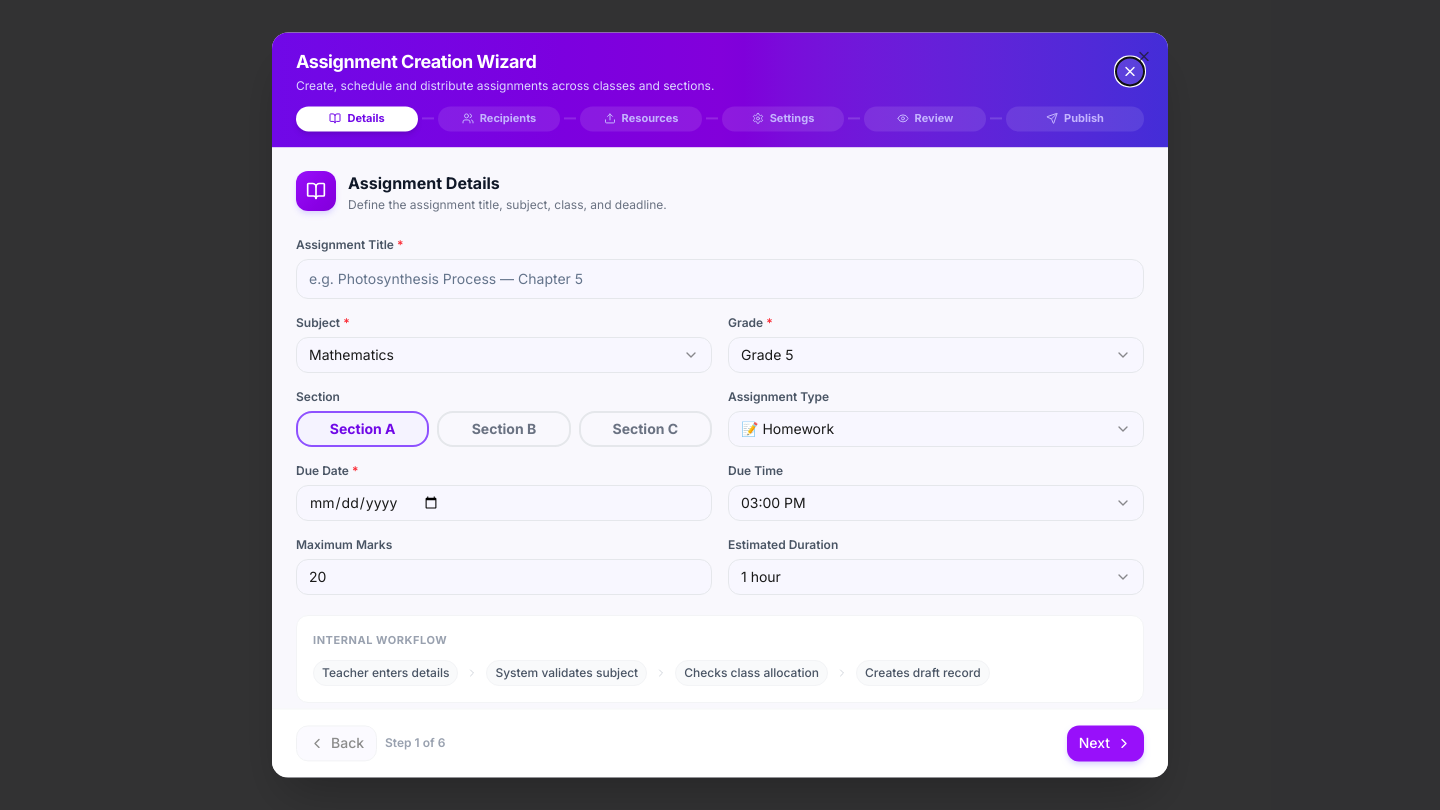
it: AssignmentWizard › advances to Recipients once title and due date are filled
The width and height of the screenshot is (1440, 810).
Type "My Assignment" into the field with placeholder "e.g. Photosynthesis Process — Chapter 5" at (720, 279), box x1=296 y1=259 x2=1144 y2=299
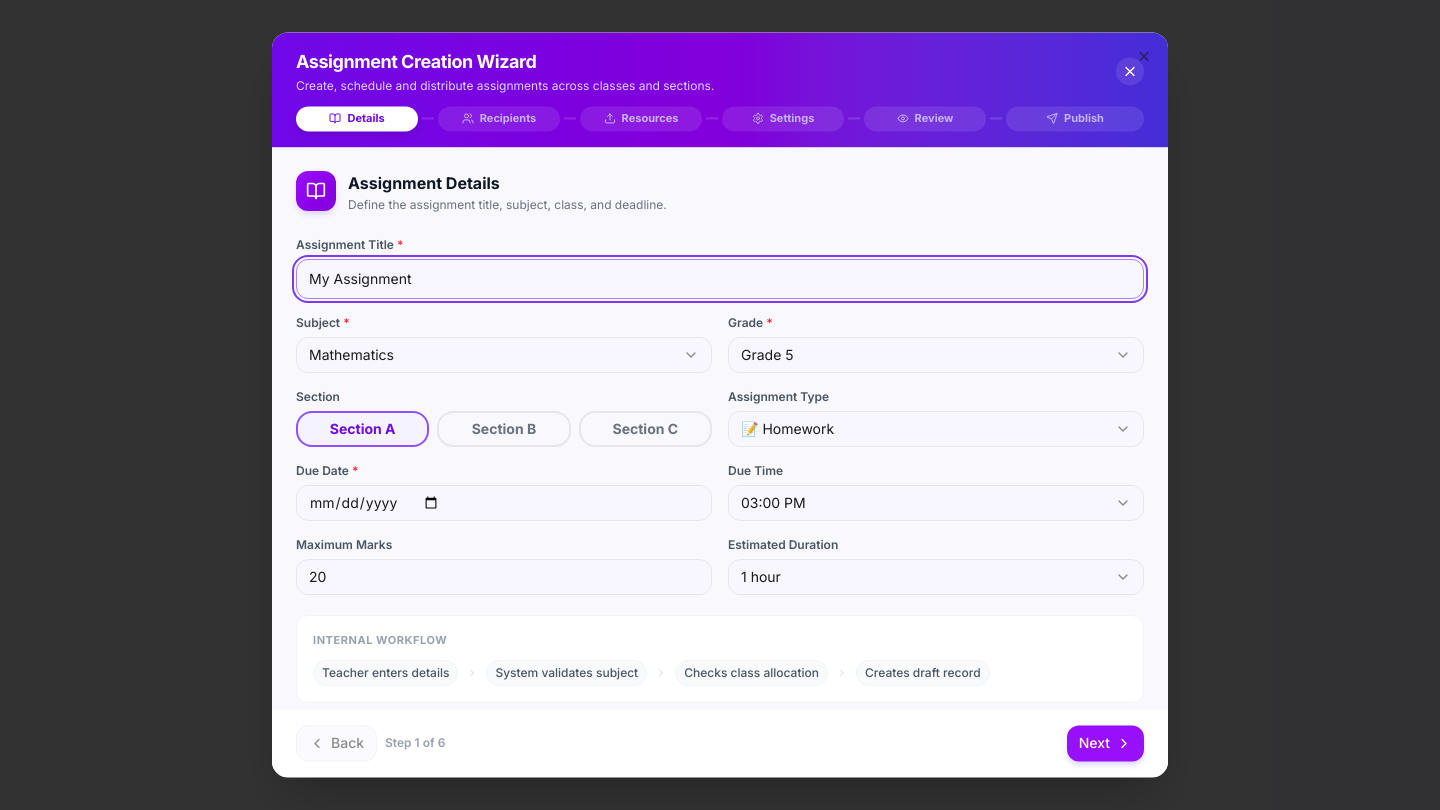
Type "2026-08-01" into the date field at (504, 503), box x1=296 y1=485 x2=712 y2=521
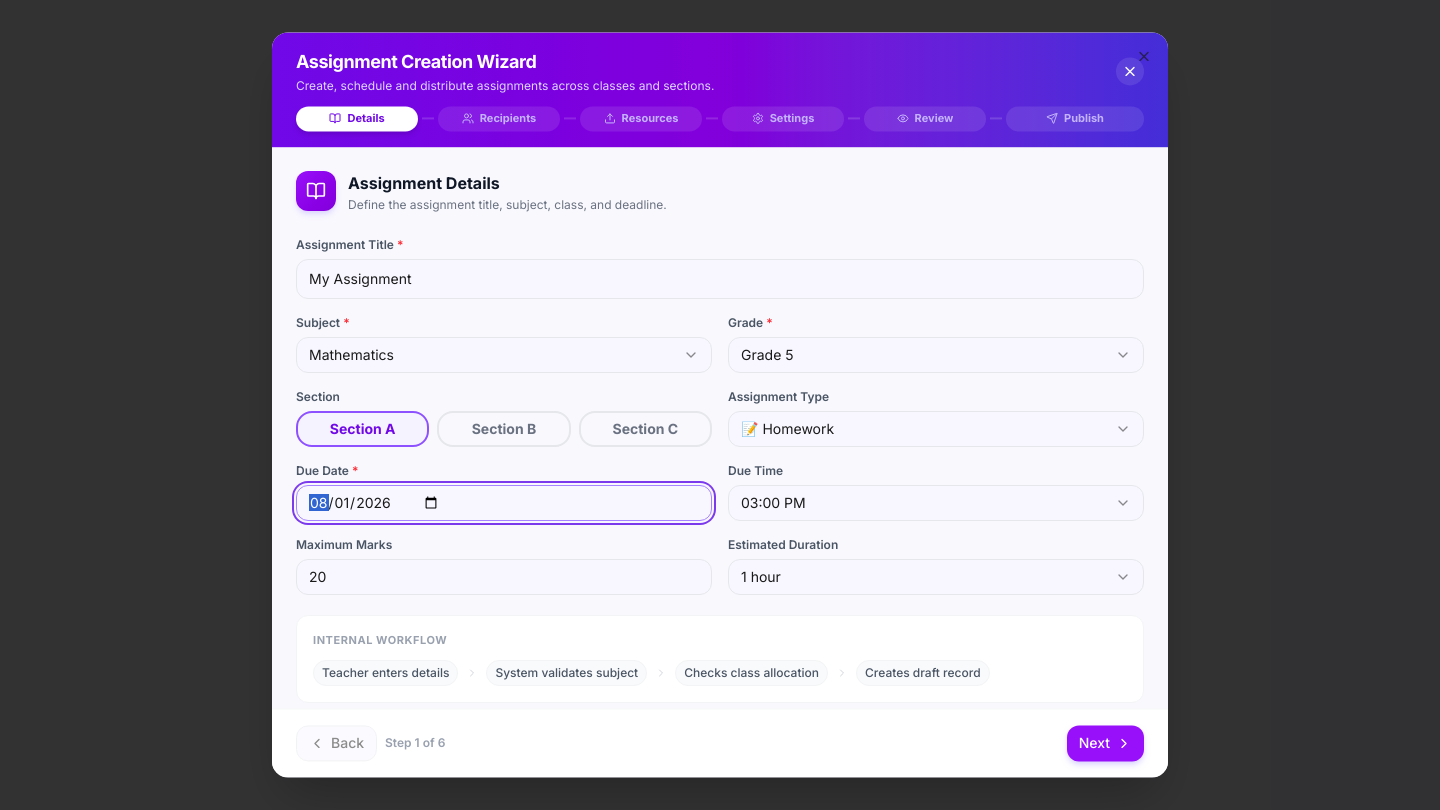
Click the button "Next" at (1105, 744), box x1=1067 y1=726 x2=1144 y2=762
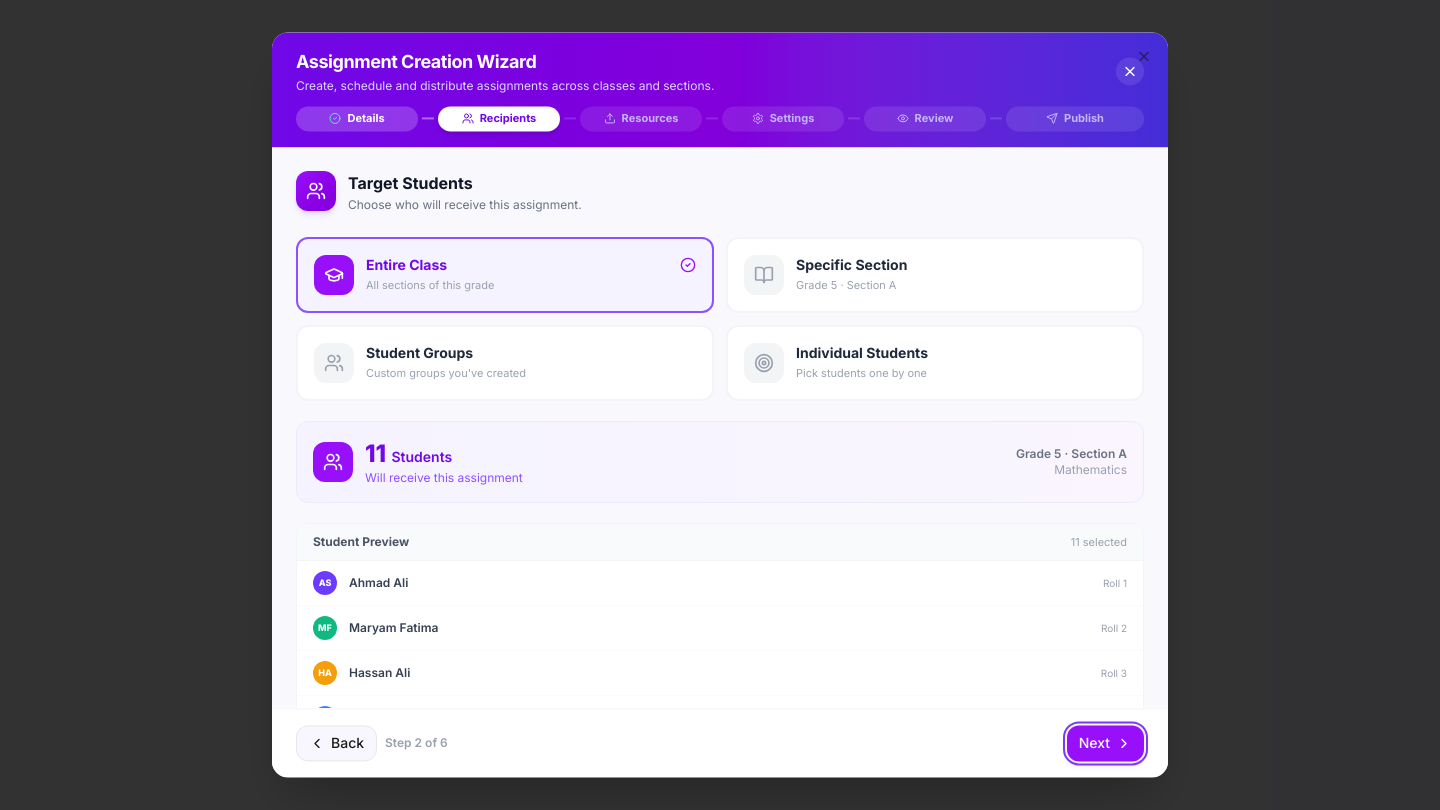
Result: the heading "Target Students" is shown at x1=348 y1=173 x2=473 y2=193
